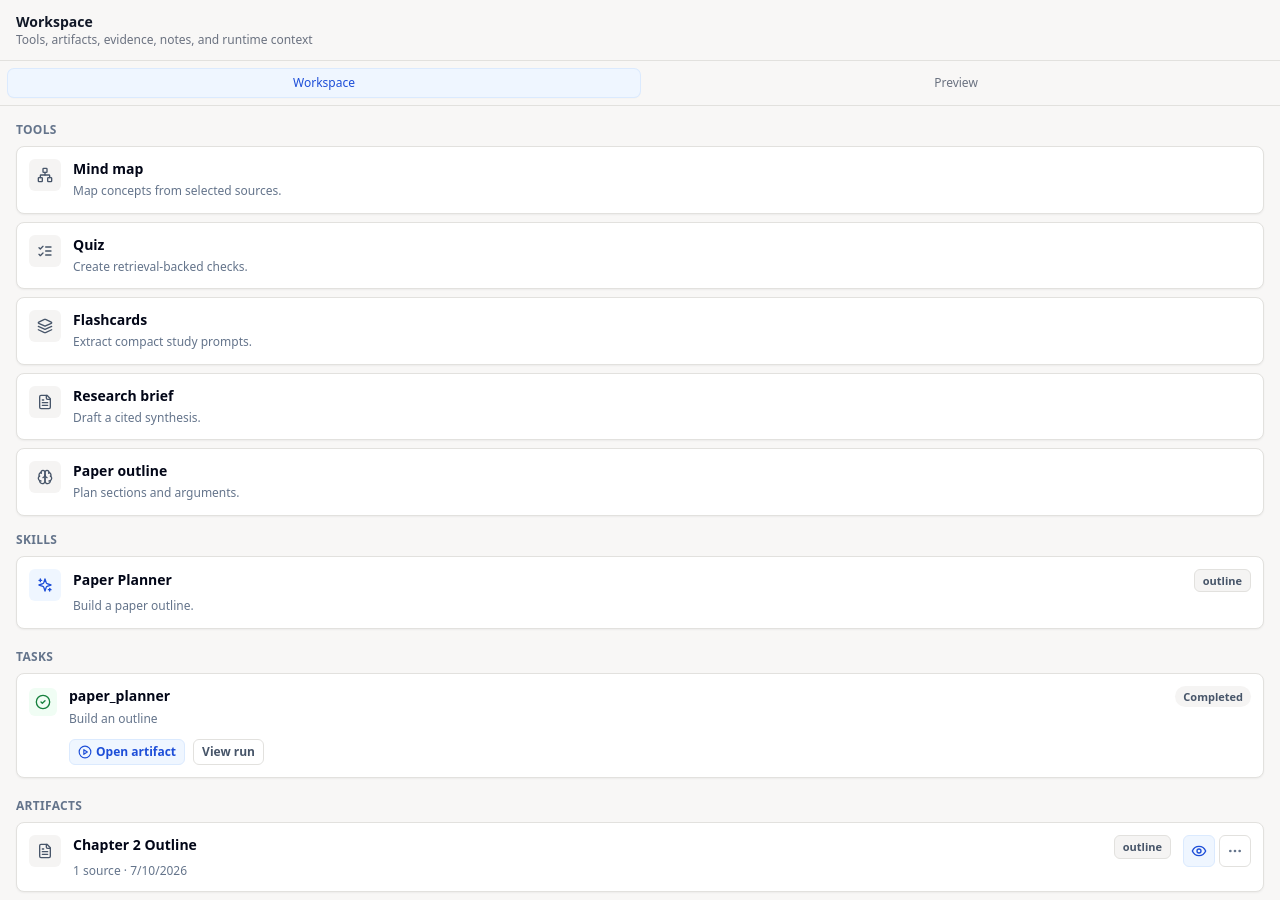
Test: RightInspector workspace panel › opens Preview when an artifact card is selected
Click the button named "Preview Chapter 2 Outline": click(1199, 851) [1183,835,1215,867]
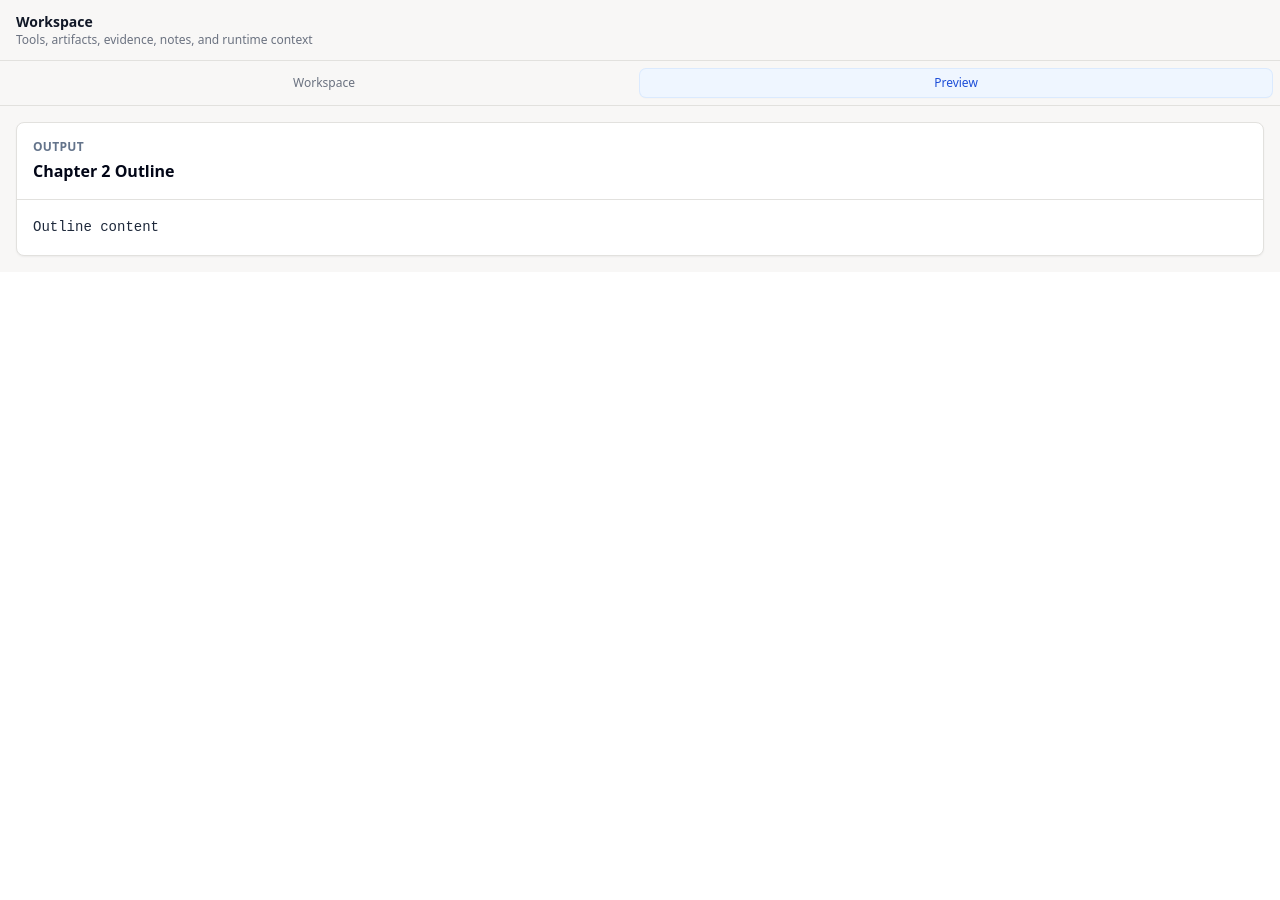
Expected: the heading "Chapter 2 Outline" is shown, [33,160,175,182]
Now the element with test id "preview-tab-panel" is shown, box [0,106,1279,272]
